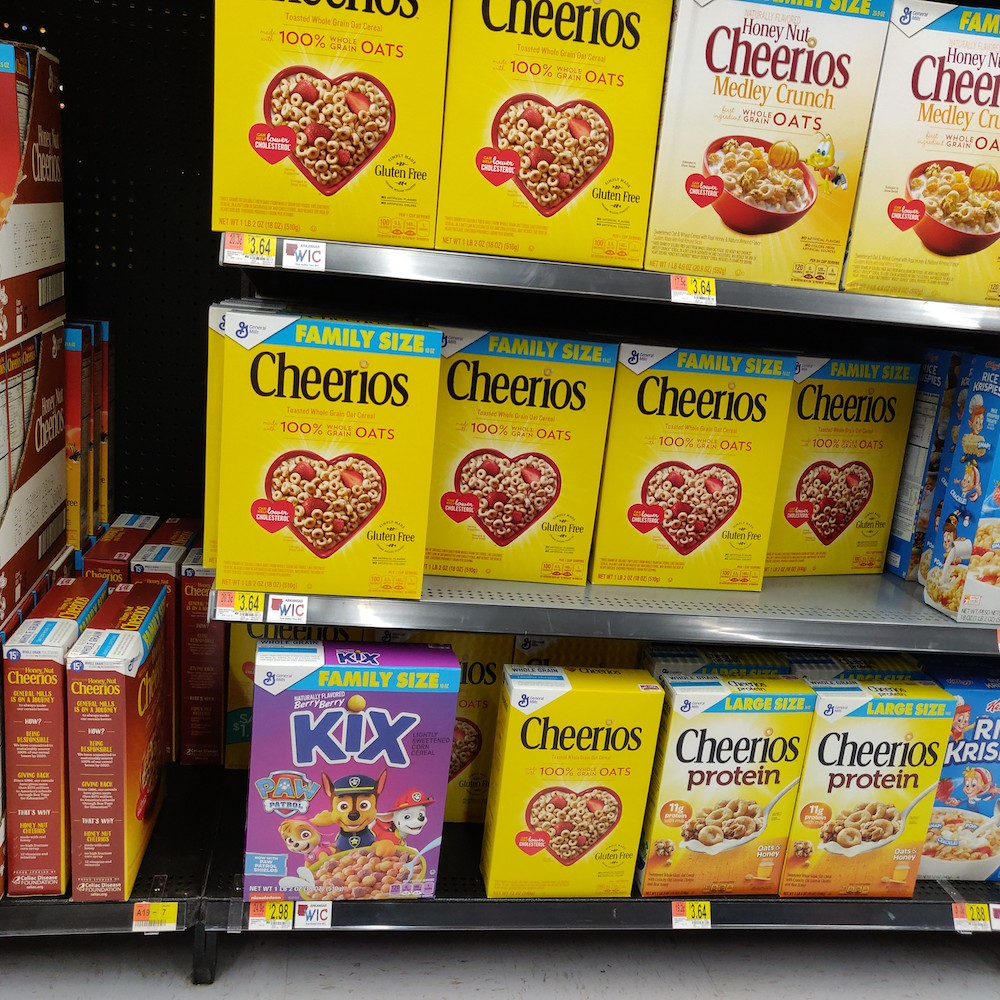Kix Berry -568919964: (253, 690, 449, 895)
